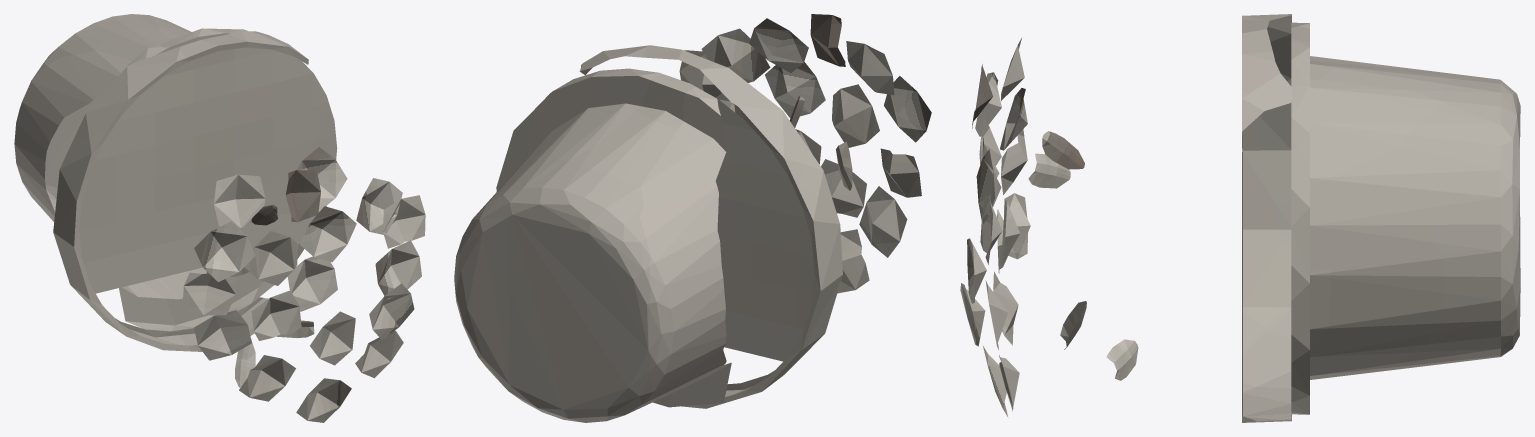
The picture shows the model from 3 angles, left to right: view 1: azimuth 30°, elevation 25°; view 2: azimuth 150°, elevation 25°; view 3: azimuth 270°, elevation 25°; orthographic projection. The views are drawn at different scales.
Bounding box in the file's own units: 0.224 × 0.2327 × 0.3072.
